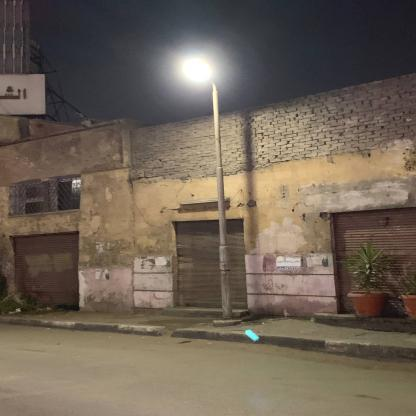light_pole: (182, 58, 233, 320)
